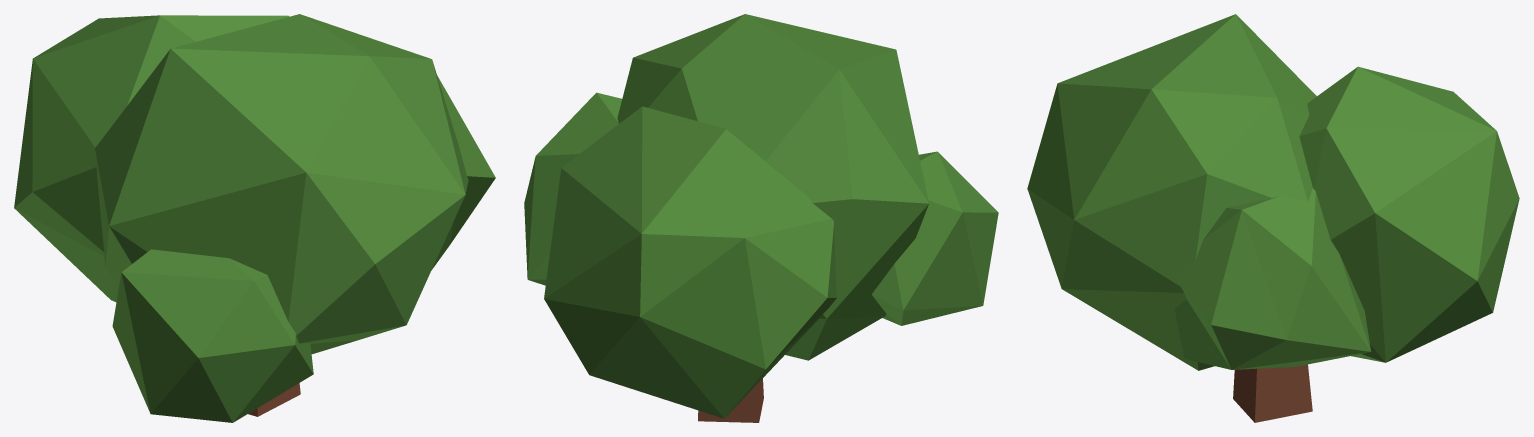
Rendered from bush_6_summer_vc.fbx.
The picture shows the model from 3 angles, left to right: view 1: azimuth 30°, elevation 25°; view 2: azimuth 150°, elevation 25°; view 3: azimuth 270°, elevation 25°; orthographic projection. The views are drawn at different scales.
Visible parts, largest first — view 1: bush_6_summer_vc; view 2: bush_6_summer_vc; view 3: bush_6_summer_vc.
Part boxes in pixels (x1,y1,x2,y2): bush_6_summer_vc: [14, 14, 495, 422]; bush_6_summer_vc: [524, 14, 998, 422]; bush_6_summer_vc: [1027, 14, 1519, 422].
Size of the model in its own units: 0.8021 by 0.7161 by 0.9192.
